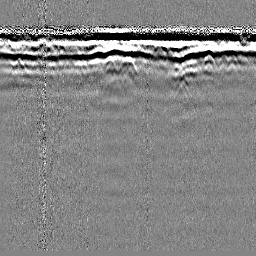cavity: (117, 56, 137, 73)
